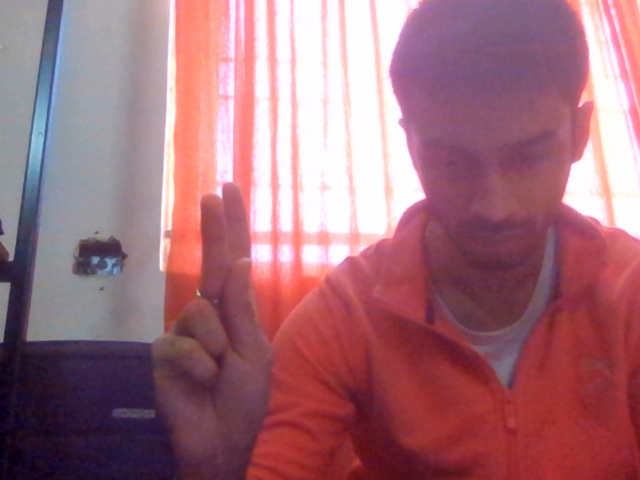K: (140, 175, 294, 480)
